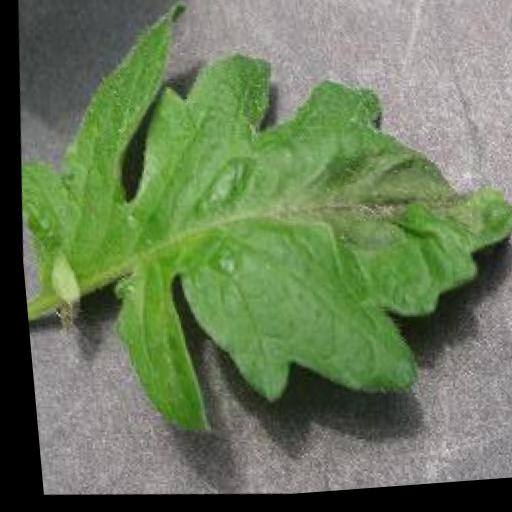Late Blight: (1, 0, 512, 467)
